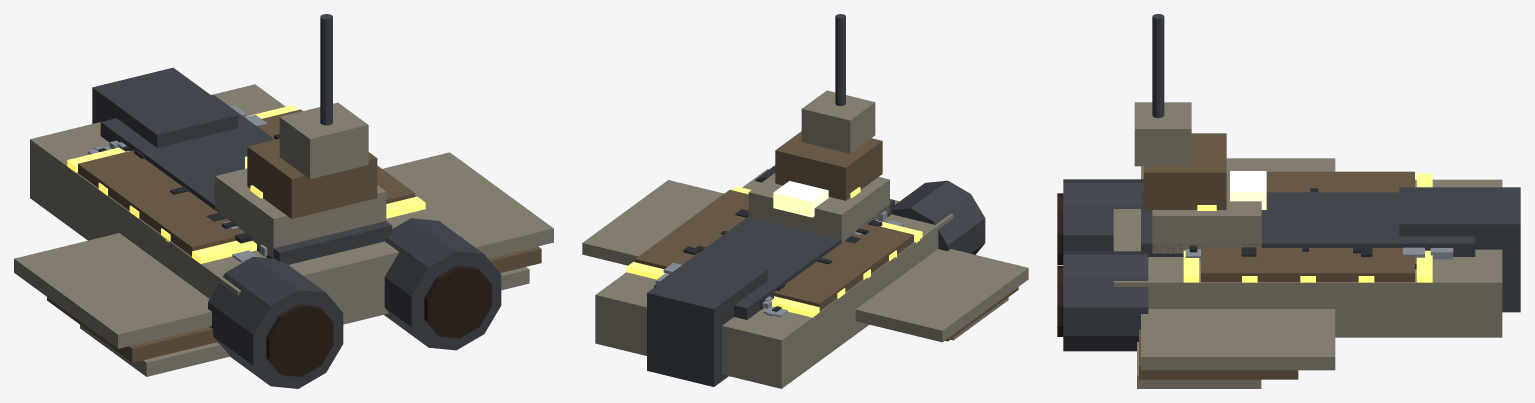
Rendered from plektor_carrier.glb.
3 renders of one model, left to right at view 1: azimuth 30°, elevation 25°; view 2: azimuth 150°, elevation 25°; view 3: azimuth 270°, elevation 25°, orthographic. The views are drawn at different scales.
Parts seen in each view (by area): view 1: hull, engines, bay; view 2: hull, bay, engines; view 3: hull, engines, bay.
Part boxes in pixels (box(x1,y1,x2,y2)): hull: box(14, 14, 553, 376); engines: box(208, 218, 501, 388); bay: box(92, 67, 238, 147); hull: box(582, 14, 1028, 388); bay: box(647, 253, 767, 386); engines: box(755, 165, 985, 254); hull: box(1113, 14, 1502, 388); engines: box(1057, 179, 1148, 351); bay: box(1399, 187, 1520, 312).
Size of the model in its own units: 95.78 by 66.33 by 94.4.
